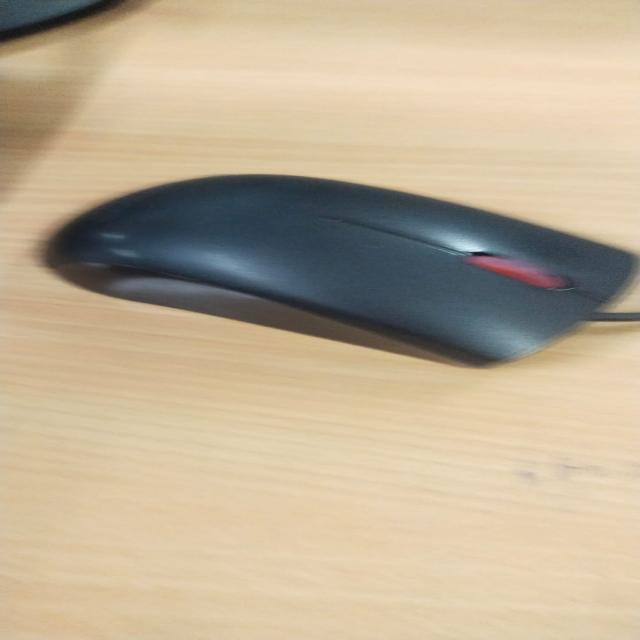mouse: (64, 160, 620, 418)
